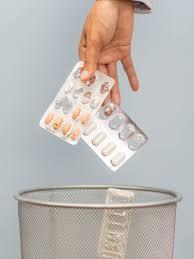pill_Strip: (40, 71, 146, 170), (40, 61, 113, 143), (82, 103, 147, 170), (82, 121, 134, 170), (40, 78, 73, 138), (97, 208, 131, 258), (45, 111, 87, 143), (48, 111, 88, 143), (45, 115, 73, 139), (70, 109, 89, 142), (106, 188, 133, 203), (101, 239, 122, 258), (119, 123, 136, 141), (108, 213, 126, 230), (61, 121, 77, 140), (108, 216, 125, 232), (55, 96, 71, 113), (128, 133, 144, 150), (99, 102, 115, 119), (108, 213, 126, 226), (109, 114, 124, 129), (62, 96, 73, 114), (92, 131, 106, 145), (101, 142, 115, 155), (83, 121, 96, 135), (111, 152, 125, 165), (105, 232, 121, 242), (80, 112, 90, 125), (64, 82, 74, 94), (73, 86, 83, 98), (53, 116, 62, 129), (44, 112, 53, 124), (82, 91, 91, 103), (90, 96, 99, 108), (100, 82, 109, 94), (62, 123, 71, 135), (71, 126, 79, 139), (72, 106, 80, 119), (86, 74, 95, 85), (55, 98, 63, 109), (63, 104, 72, 113), (73, 68, 81, 78), (114, 209, 125, 215), (80, 117, 87, 124), (57, 98, 61, 108)
